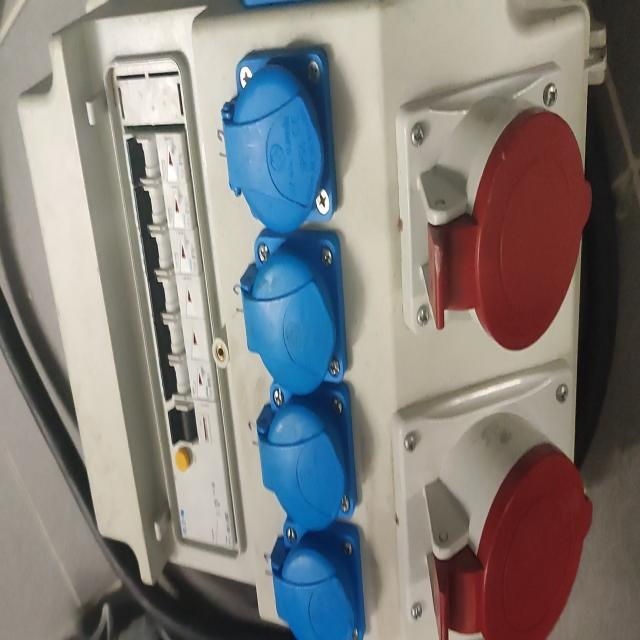400v socket: (389, 358, 593, 640), (395, 62, 591, 348)
house plug covered: (221, 48, 339, 230), (240, 229, 350, 393), (256, 384, 359, 532), (270, 518, 367, 639)
